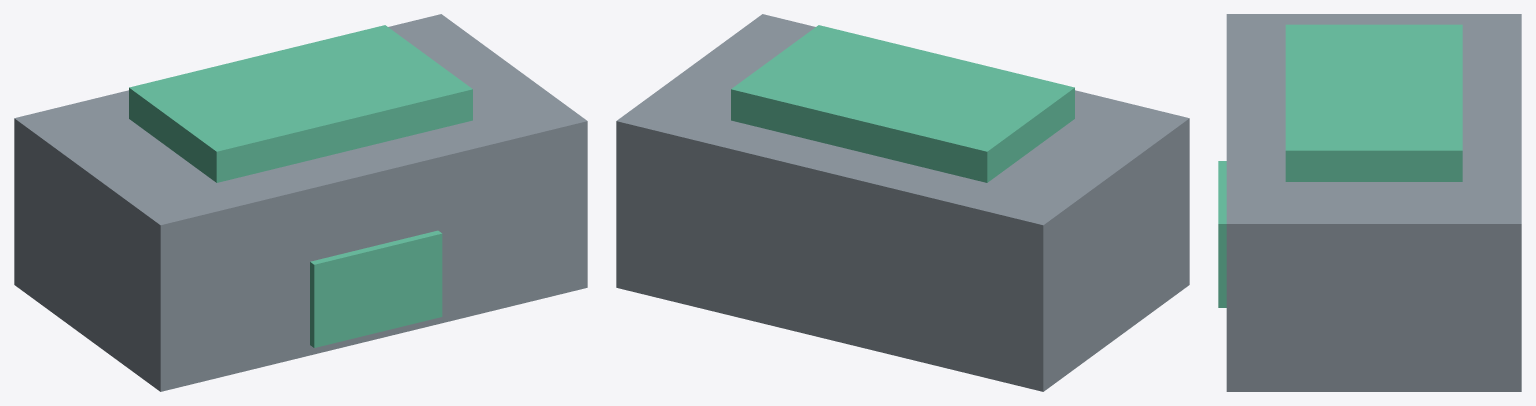
Rendered from CO_YuanCollector_LOD0.glb.
3 renders of one model, left to right at view 1: azimuth 30°, elevation 25°; view 2: azimuth 150°, elevation 25°; view 3: azimuth 270°, elevation 25°, orthographic.
Parts seen in each view (by area): view 1: EntranceGate; view 2: EntranceGate; view 3: EntranceGate.
Boxes of the visible parts, x1,y1,x2,y2 form: EntranceGate: [14, 14, 587, 391]; EntranceGate: [616, 14, 1189, 391]; EntranceGate: [1218, 14, 1521, 391].
Bounding box in the file's own units: 590 × 261 × 360.
